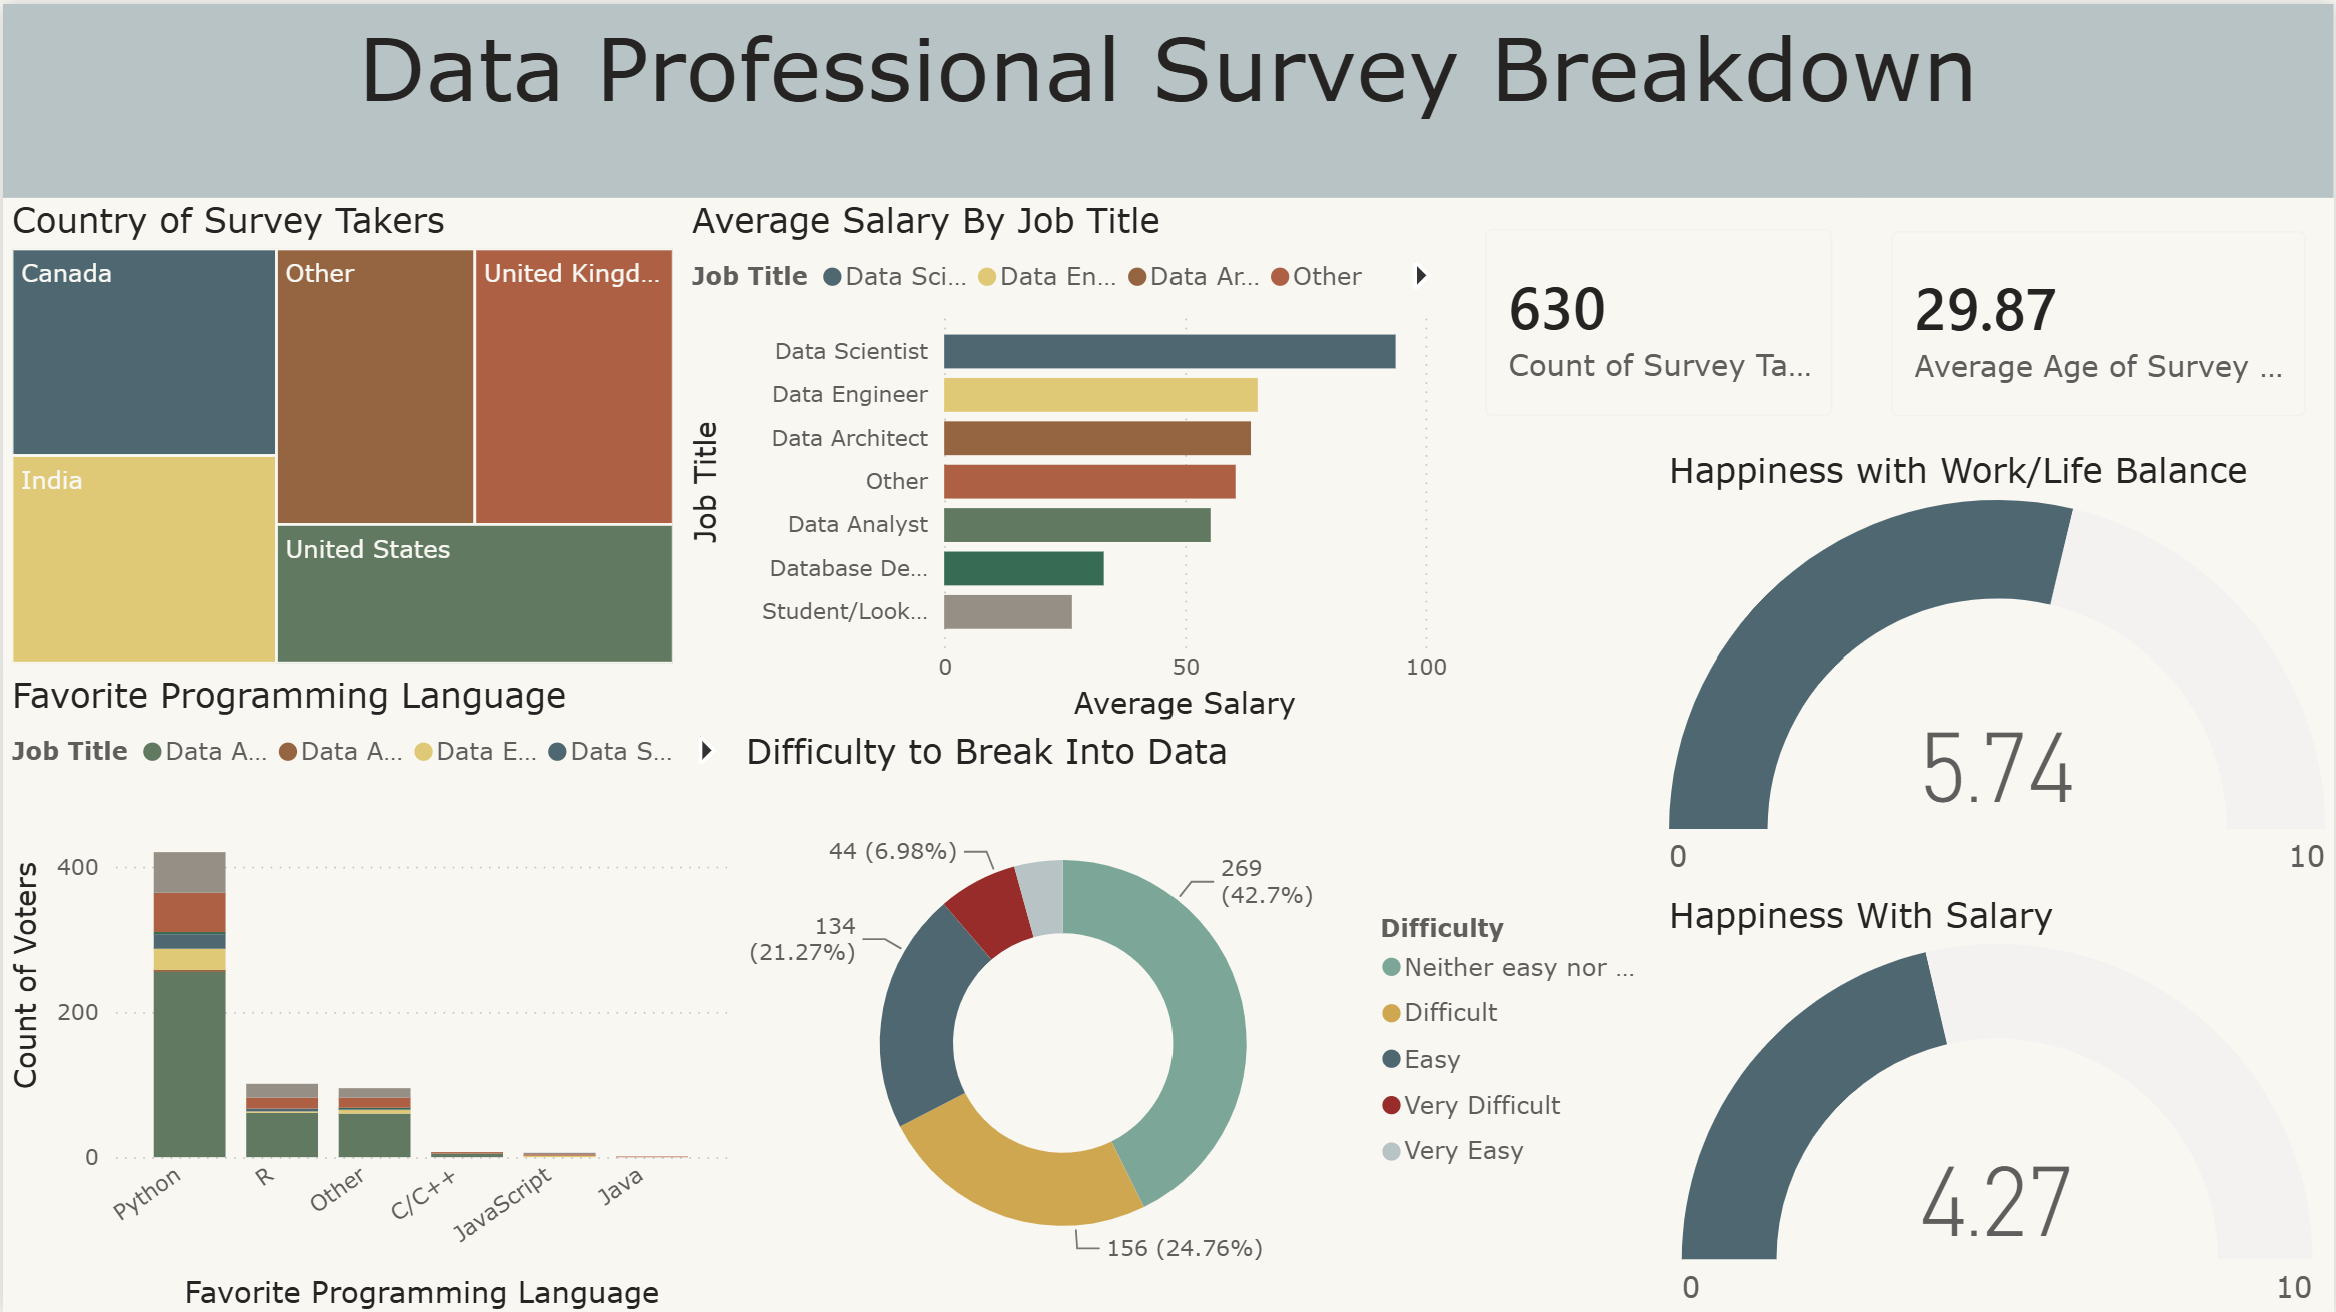

This screenshot's page, from the dashboard's own definition file:
{"tool":"powerbi","page":{"name":"Page 1","canvas":[1280,720],"ordinal":0},"visuals":[{"type":"textbox","box":[0,0,1280,106.5],"z":0},{"type":"cardVisual","fields":{"Data":["Count(Data Professional Survey.Unique ID)"]},"box":[796.3,106.4,225,137.4],"z":1000},{"type":"cardVisual","fields":{"Data":["Avg(Data Professional Survey.Q10 - Current Age)"]},"box":[1020,107.8,262.7,136.1],"z":2000},{"type":"barChart","title":"Average Salary By Job Title","fields":{"Category":["Data Professional Survey.Q1 - Which Title Best Fits your Current Role?.1"],"Y":["Avg(Data Professional Survey.Average Salary)"],"Series":["Data Professional Survey.Q1 - Which Title Best Fits your Current Role?.1"]},"box":[373.2,106.4,424.4,291],"z":3000},{"type":"columnChart","title":"Favorite Programming Language","fields":{"Category":["Data Professional Survey.Q5 - Favorite Programming Language.1"],"Y":["CountNonNull(Data Professional Survey.Unique ID)"],"Series":["Data Professional Survey.Q1 - Which Title Best Fits your Current Role?.1"]},"box":[0,366.5,402.9,354.4],"z":4000},{"type":"treemap","title":"Country of Survey Takers","fields":{"Group":["Data Professional Survey.Q11 - Which Country do you live in?.1"],"Values":["Count(Data Professional Survey.Q11 - Which Country do you live in?.1)"]},"box":[0,106.4,373.2,260],"z":5000},{"type":"gauge","title":"Happiness with Work/Life Balance","fields":{"Y":["Avg(Data Professional Survey.Q6 - How Happy are you in your Current Position with the following? (Work/Life Balance))"],"MinValue":["Min(Data Professional Survey.Q6 - How Happy are you in your Current Position with the following? (Work/Life Balance))1"],"MaxValue":["Max(Data Professional Survey.Q6 - How Happy are you in your Current Position with the following? (Work/Life Balance))2"]},"box":[909.5,243.9,370.5,243.9],"z":6000},{"type":"gauge","title":"Happiness With Salary","fields":{"Y":["Avg(Data Professional Survey.Q6 - How Happy are you in your Current Position with the following? (Salary))"],"MinValue":["Min(Data Professional Survey.Q6 - How Happy are you in your Current Position with the following? (Salary))"],"MaxValue":["Max(Data Professional Survey.Q6 - How Happy are you in your Current Position with the following? (Salary))"]},"box":[909.5,487.7,370.5,235.8],"z":7000},{"type":"donutChart","title":"Difficulty to Break Into Data","fields":{"Category":["Data Professional Survey.Q7 - How difficult was it for you to break into Data?"],"Y":["CountNonNull(Data Professional Survey.Q7 - How difficult was it for you to break into Data?)"]},"box":[402.9,397.5,508,322],"z":8000}]}

Visuals, with their boxes in screenshot pixels (x1, y1, x2, y2), scaled from the page's 1280x720 canvas onto the 2336x1312 screenshot:
textbox: [left=0, top=0, right=2335, bottom=194]
cardVisual - Count(Data Professional Survey.Unique ID): [left=1453, top=194, right=1864, bottom=444]
cardVisual - Avg(Data Professional Survey.Q10 - Current Age): [left=1862, top=196, right=2335, bottom=444]
"Average Salary By Job Title" barChart: [left=681, top=194, right=1456, bottom=724]
"Favorite Programming Language" columnChart: [left=0, top=668, right=735, bottom=1311]
"Country of Survey Takers" treemap: [left=0, top=194, right=681, bottom=668]
"Happiness with Work/Life Balance" gauge: [left=1660, top=444, right=2335, bottom=889]
"Happiness With Salary" gauge: [left=1660, top=889, right=2335, bottom=1311]
"Difficulty to Break Into Data" donutChart: [left=735, top=724, right=1662, bottom=1311]
